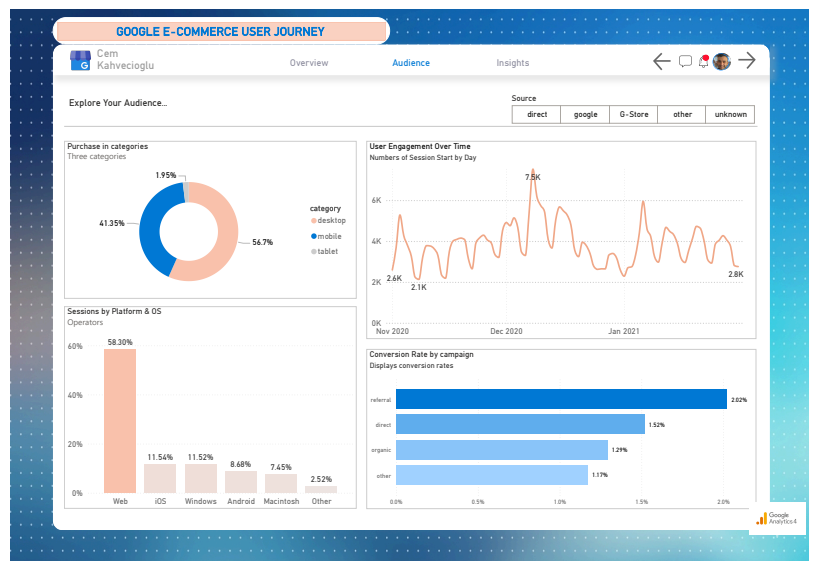

What the dashboard file says about the page in this screenshot:
{"tool":"powerbi","page":{"name":"Audience","canvas":[1450,1000],"ordinal":1},"visuals":[{"type":"shape","box":[77.6,14.3,611.8,49],"z":0,"group":"g1"},{"type":"shape","box":[77.6,75.5,1302,869.4],"z":0},{"type":"textbox","box":[112.9,22.1,539.2,35.3],"z":1000,"group":"g1"},{"type":"advancedSlicerVisual","title":"Source","fields":{"Values":["Query1.Short\\_Source"]},"box":[906.1,153.1,451,59.2],"z":1000},{"type":"donutChart","title":"Purchase in categories","fields":{"Category":["Query1.category"],"Y":["Query1.Purchase_Correct"]},"box":[98,238.8,530.6,285.7],"z":2000},{"type":"lineChart","title":"User Engagement Over Time","fields":{"Y":["Query1.Session_Start_Count"],"Category":["Query1.event_date.Variation.Date Hierarchy.Year","Query1.event_date.Variation.Date Hierarchy.Quarter","Query1.event_date.Variation.Date Hierarchy.Month","Query1.event_date.Variation.Date Hierarchy.Day"]},"box":[646.9,238.8,708.2,359.2],"z":3000},{"type":"shape","box":[77.8,63,1301.9,55.6],"z":4000},{"type":"clusteredBarChart","title":"Conversion Rate by campaign","fields":{"Y":["Query1.Conversion_Rate"],"Category":["Query1.campaign"]},"box":[646.9,616.3,708.2,289.8],"z":5000},{"type":"textbox","box":[102,155.1,353.1,46.9],"z":6000},{"type":"clusteredColumnChart","title":"Sessions by Platform & OS","fields":{"Category":["Query1.operator"],"Y":["Query1.Session_Start_Count"]},"box":[98,538.8,530.6,367.3],"z":7000},{"type":"image","box":[102.6,70.3,51,47.1],"z":8000},{"type":"textbox","box":[153.7,63,164.8,63],"z":9000},{"type":"image","box":[1209.9,73.3,32.3,41.9],"z":10000},{"type":"shape","box":[98,202,1259.2,20.4],"z":11000},{"type":"image","box":[1242.1,73.3,32.3,41.9],"z":12000},{"type":"shape","box":[1258,82.1,12.4,12],"z":13000},{"type":"image","box":[1270.5,74.1,40.6,40.3],"z":14000},{"type":"shape","box":[1276.4,79.1,30.6,31.2],"z":15000},{"type":"pageNavigator","box":[450,75.5,556.4,42.6],"z":16000},{"type":"actionButton","box":[1163.3,72.5,46.8,42.2],"z":17000},{"type":"actionButton","box":[1315.5,71.8,45.6,41.7],"z":18000},{"type":"image","box":[1337.5,846.4,112.5,153.6],"z":19000},{"type":"group","id":"g1","title":"Group 4","box":[77.6,14.3,610.2,49],"z":20000}]}

Visuals, with their boxes in screenshot pixels (x1, y1, x2, y2), scaled from the page's 1450x1000 canvas onto the 819x570 screenshot:
shape: <box>44,8,389,36</box>
shape: <box>44,43,779,539</box>
textbox: <box>64,13,368,33</box>
"Source" advancedSlicerVisual: <box>512,87,767,121</box>
"Purchase in categories" donutChart: <box>55,136,355,299</box>
"User Engagement Over Time" lineChart: <box>365,136,765,341</box>
shape: <box>44,36,779,68</box>
"Conversion Rate by campaign" clusteredBarChart: <box>365,351,765,516</box>
textbox: <box>58,88,257,115</box>
"Sessions by Platform & OS" clusteredColumnChart: <box>55,307,355,516</box>
image: <box>58,40,87,67</box>
textbox: <box>87,36,180,72</box>
image: <box>683,42,702,66</box>
shape: <box>55,115,767,127</box>
image: <box>702,42,720,66</box>
shape: <box>711,47,718,54</box>
image: <box>718,42,741,65</box>
shape: <box>721,45,738,63</box>
pageNavigator: <box>254,43,568,67</box>
actionButton: <box>657,41,683,65</box>
actionButton: <box>743,41,769,65</box>
image: <box>755,482,818,569</box>
"Group 4" group: <box>44,8,388,36</box>
